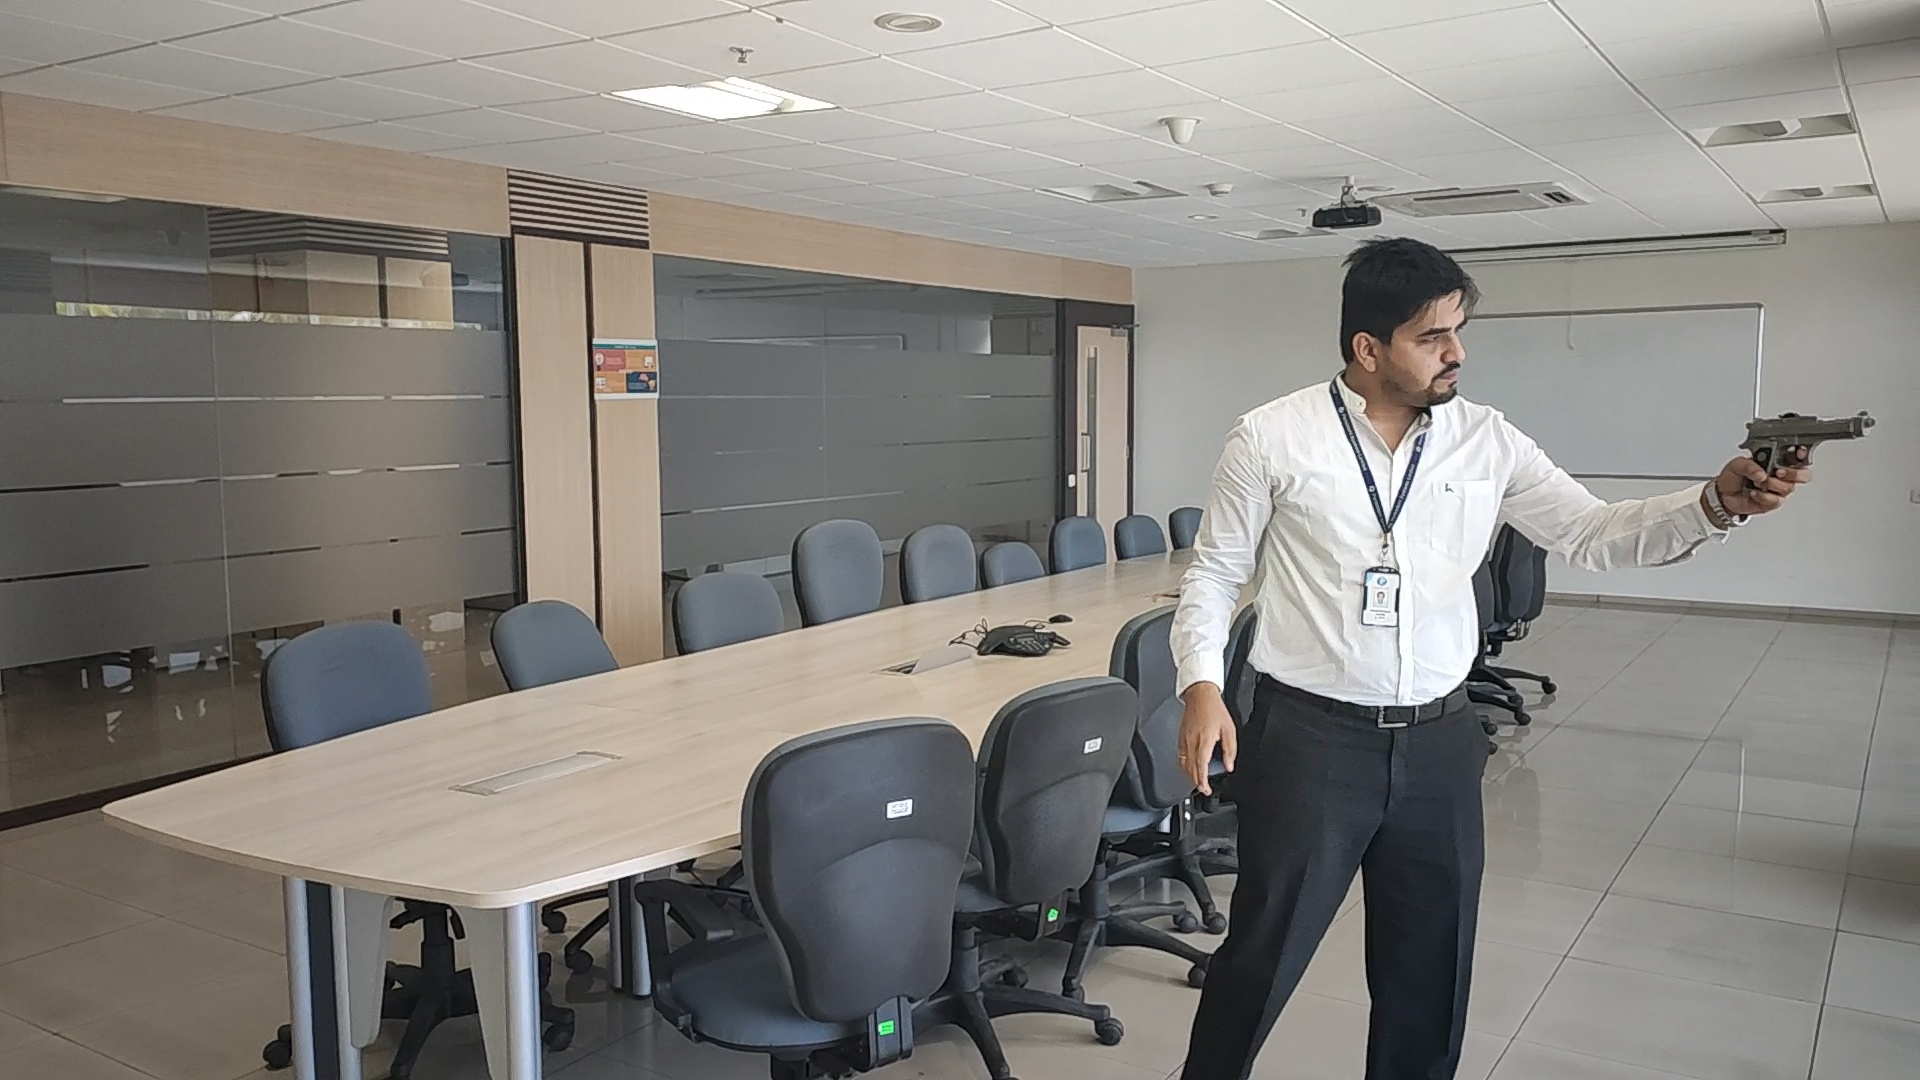gun: (1735, 405, 1876, 454)
